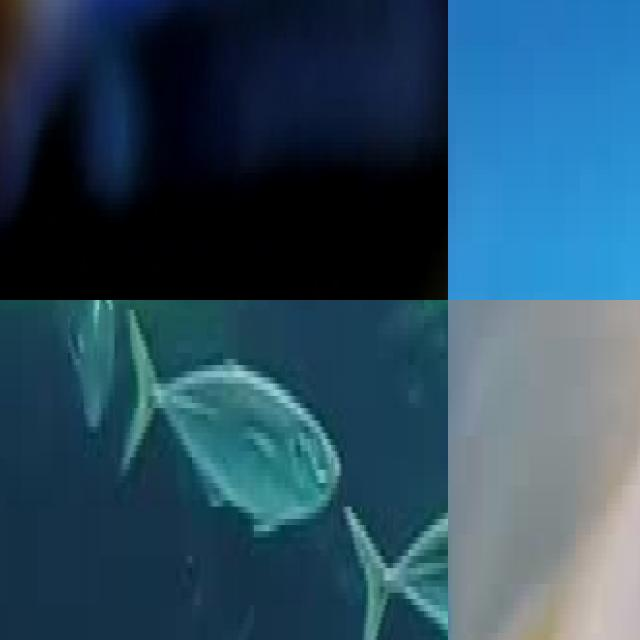fish: (0, 0, 448, 300), (448, 0, 640, 300), (448, 399, 640, 640), (344, 476, 448, 640)
